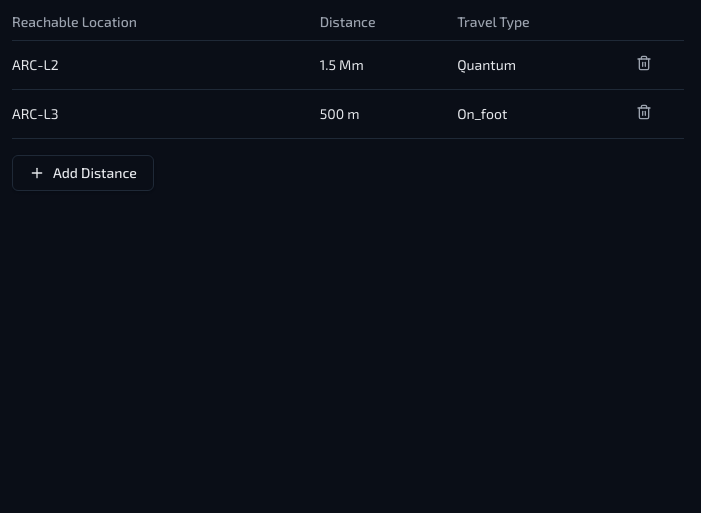
Test: DistancesTab › shows error when adding a distance fails
The width and height of the screenshot is (701, 513).
expect the text "ARC-L2" is shown: met, box [12,40,320,90]
Open add form
Click the button "Add Distance". click: (83, 173)
box: [12,155,154,191]
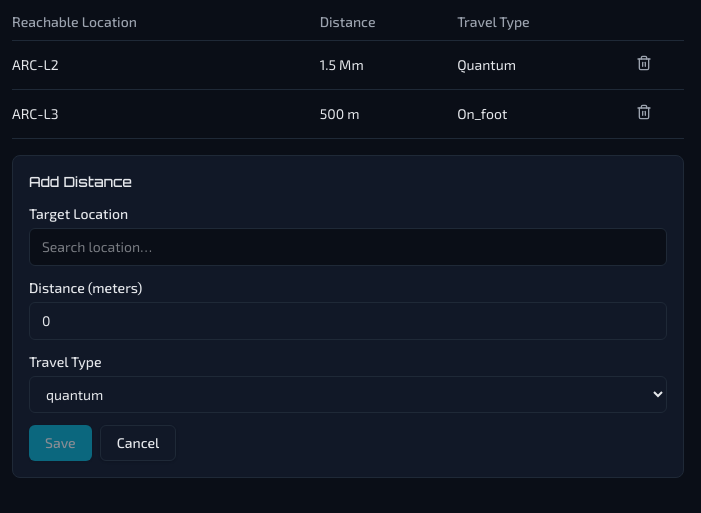
Search and select
Type "ARC" into the field with placeholder "Search location…". click: (348, 247)
box: [29,228,667,266]
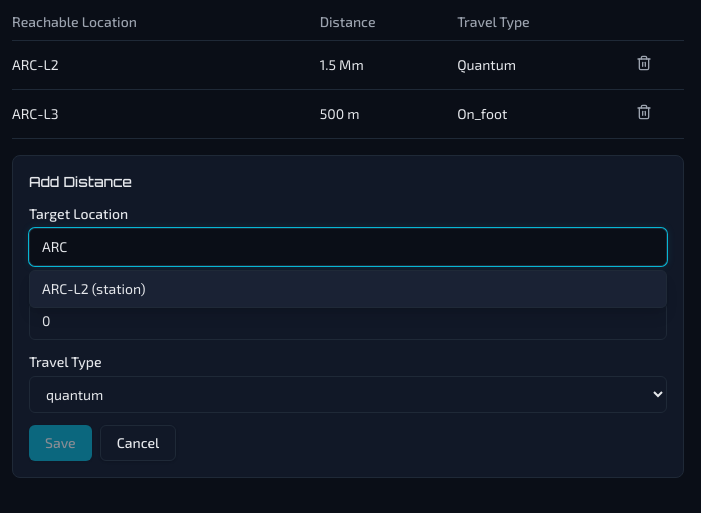
Click the option "ARC-L2 (station)". click: (94, 288)
box: [42,280,146,297]
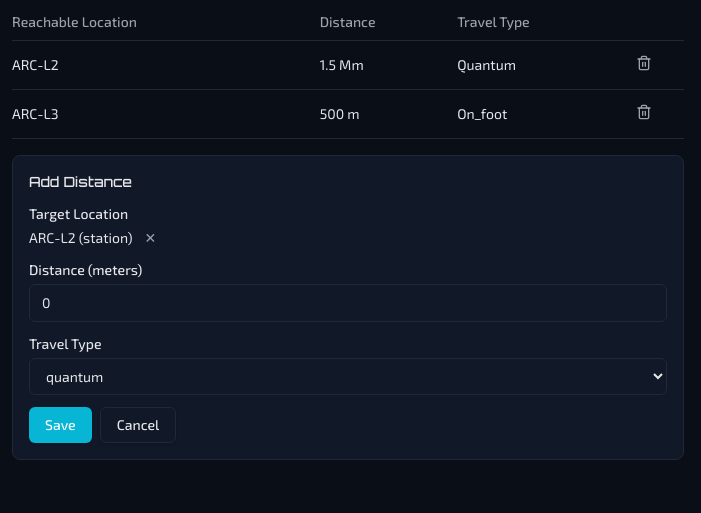
Click the button "Save". click: (60, 425)
box: [29,407,92,443]
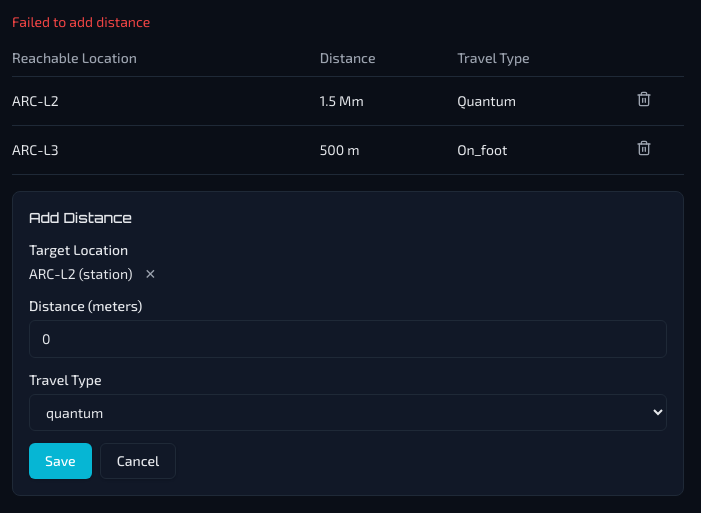
expect the text "Failed to add distance" is shown: met, box [12,13,150,30]
